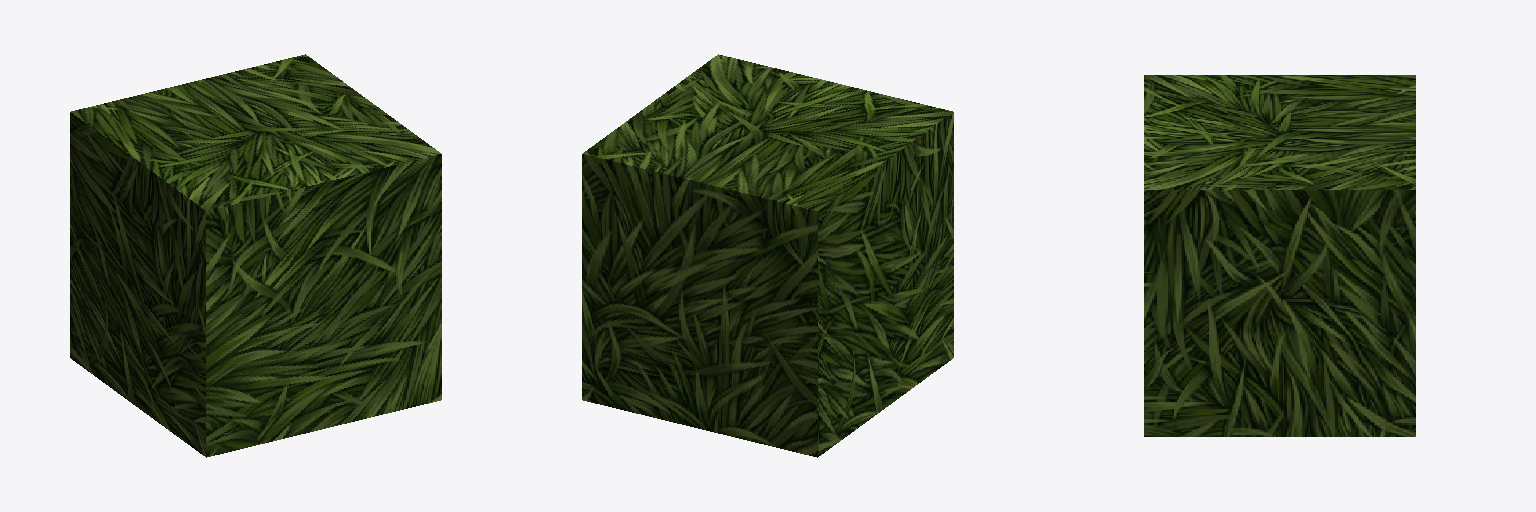
3 views of the same model, side by side, from view 1: azimuth 30°, elevation 25°; view 2: azimuth 150°, elevation 25°; view 3: azimuth 270°, elevation 25° (orthographic).
Parts seen in each view (by area): view 1: Cube; view 2: Cube; view 3: Cube.
Boxes of the visible parts, <box> form: Cube: <box>70,54,441,457</box>; Cube: <box>582,54,953,457</box>; Cube: <box>1144,75,1415,436</box>.
Bounding box in the file's own units: 2 × 2 × 2.
1 materials, 1 textured.